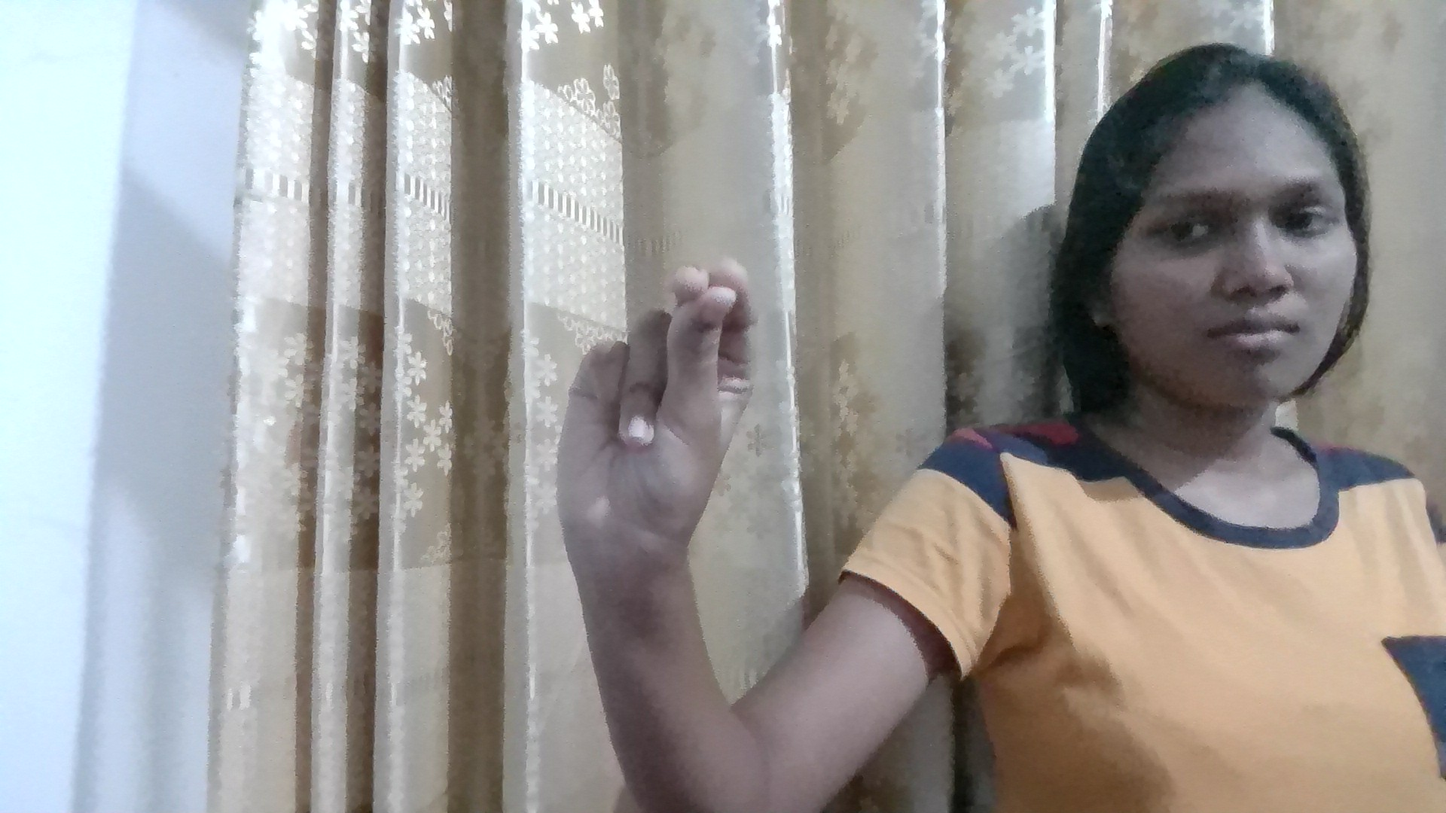No: (456, 208, 813, 570)
